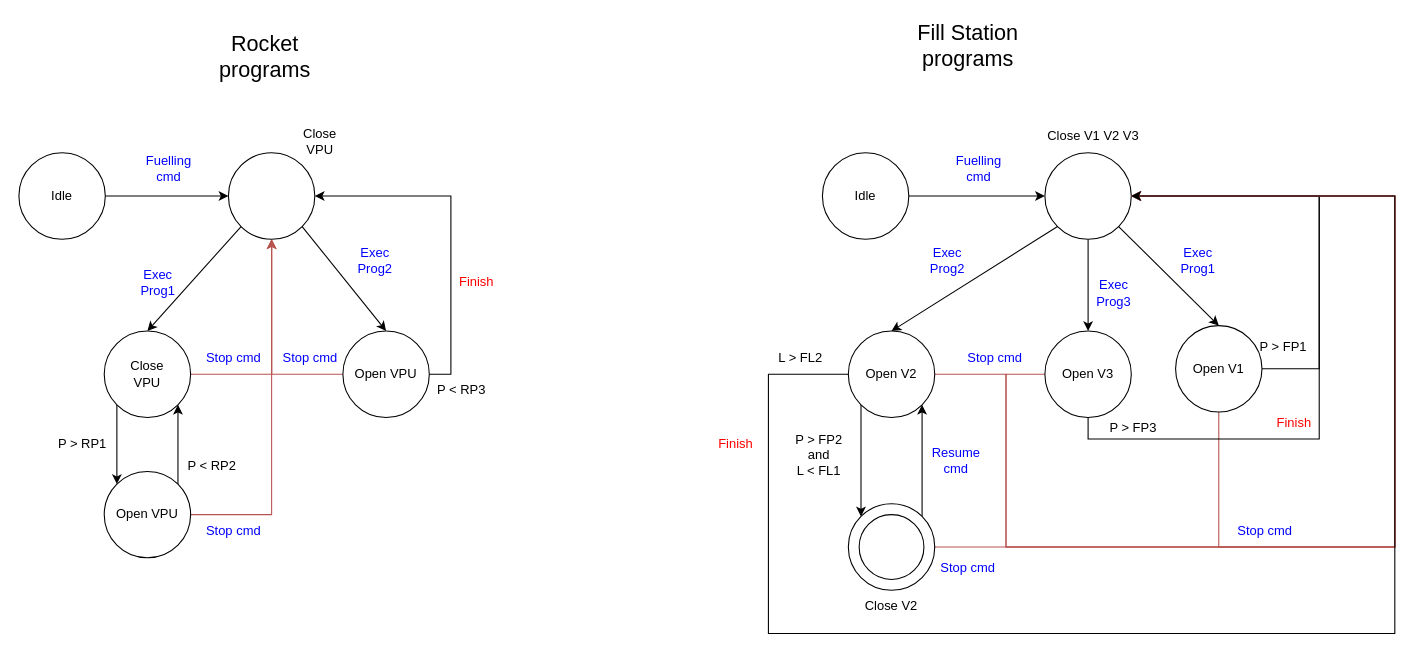
Image size: 1422x661. Some labels were removed from this diagram. Each missing label, with the box of its shape:
fueling start: (1044, 152, 1131, 239)
fuelling start: (227, 152, 315, 239)
Stop: (858, 514, 924, 579)
